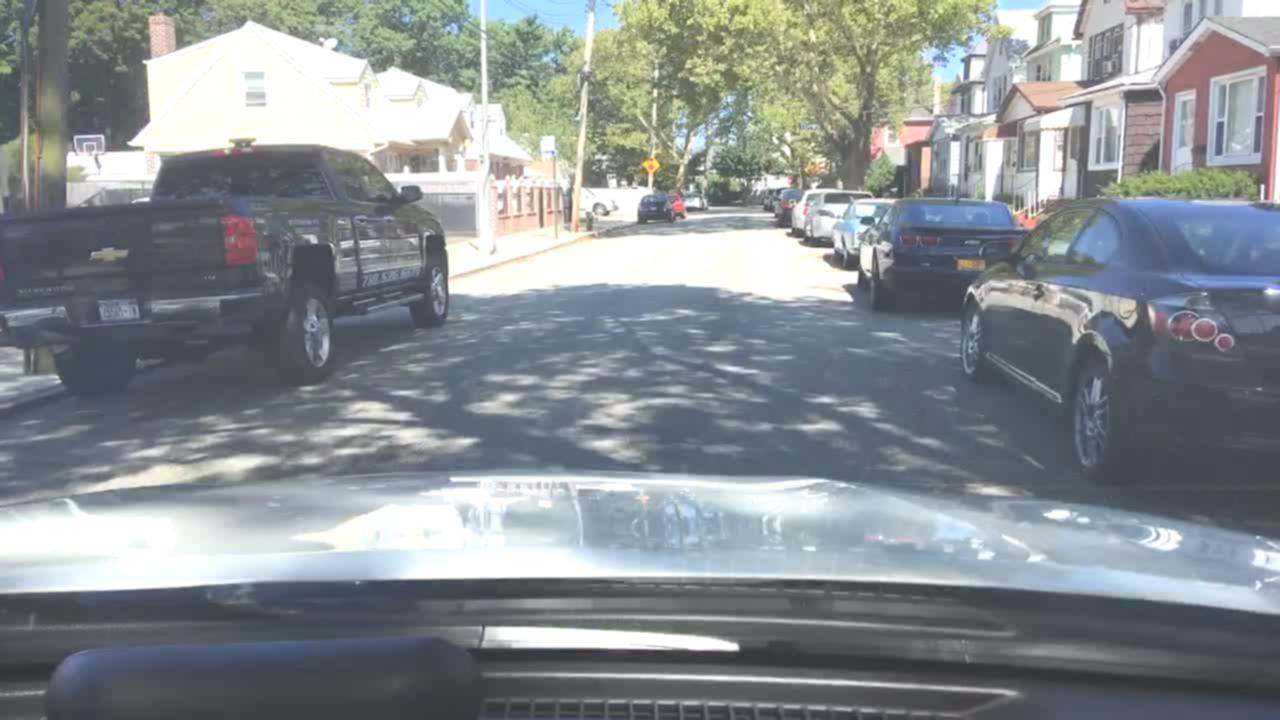chevrolet: (83, 239, 130, 269)
